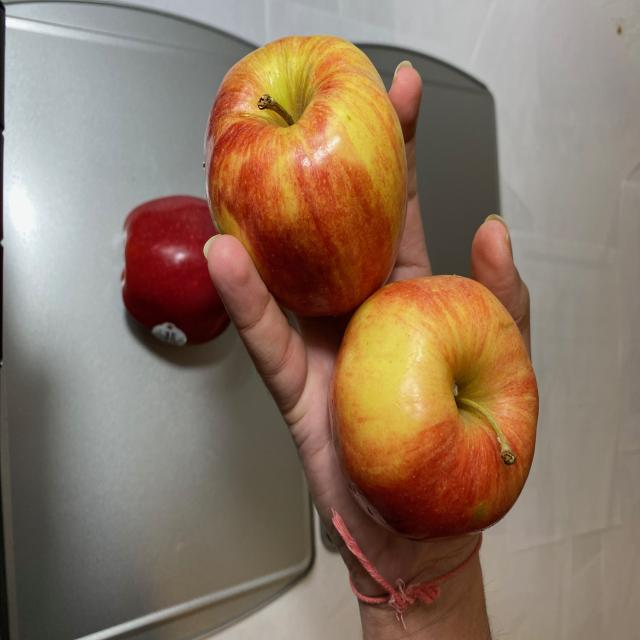apple: (202, 34, 540, 537), (121, 174, 227, 354)
